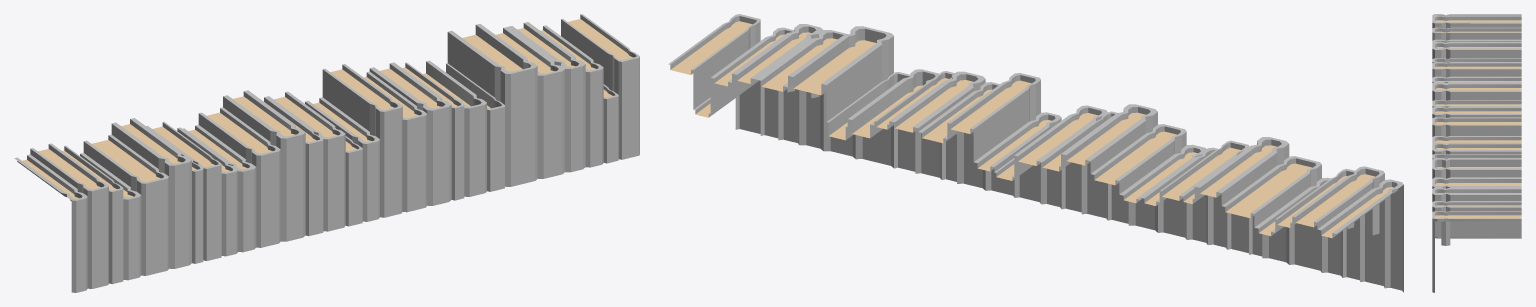
Rendered from prop_biblioteca_libros005.fbx.
3 renders of one model, left to right at view 1: azimuth 30°, elevation 25°; view 2: azimuth 150°, elevation 25°; view 3: azimuth 270°, elevation 25°, orthographic. The views are drawn at different scales.
Parts seen in each view (by area): view 1: prop_biblioteca_libros005; view 2: prop_biblioteca_libros005; view 3: prop_biblioteca_libros005.
Boxes of the visible parts, box(x1,y1,x2,y2) form: prop_biblioteca_libros005: box(14, 14, 639, 292); prop_biblioteca_libros005: box(668, 14, 1403, 292); prop_biblioteca_libros005: box(1432, 14, 1521, 292).
Size of the model in its own units: 200 by 38 by 36.04.
